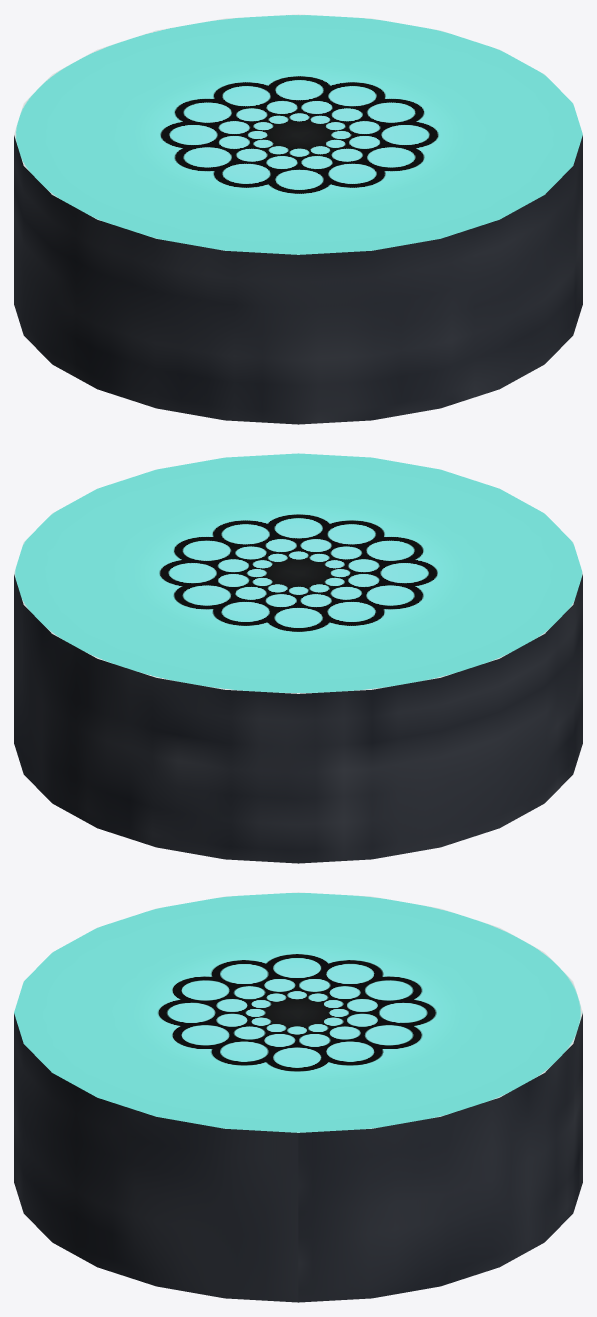
File: atom3.dae
3 views of the same model, one above another, from view 1: azimuth 30°, elevation 25°; view 2: azimuth 150°, elevation 25°; view 3: azimuth 270°, elevation 25° (orthographic).
Visible parts, largest first — view 1: SketchUp (×2); view 2: SketchUp (×2); view 3: SketchUp (×2).
Part boxes in pixels (x1,y1,x2,y2): SketchUp (×2): (14, 14, 582, 424); SketchUp (×2): (14, 453, 582, 863); SketchUp (×2): (14, 892, 582, 1302).
Bounding box in the file's own units: 2.99 × 2.99 × 0.9843.
Materials: 2 (2 with a texture image).
